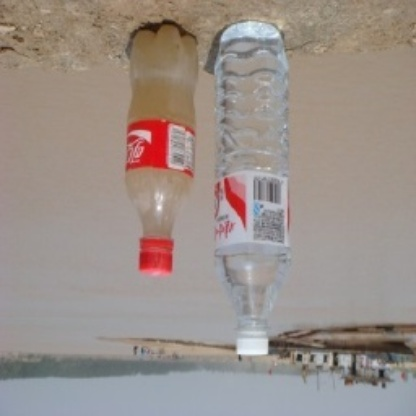bottle: (216, 17, 290, 356), (125, 21, 197, 276)
